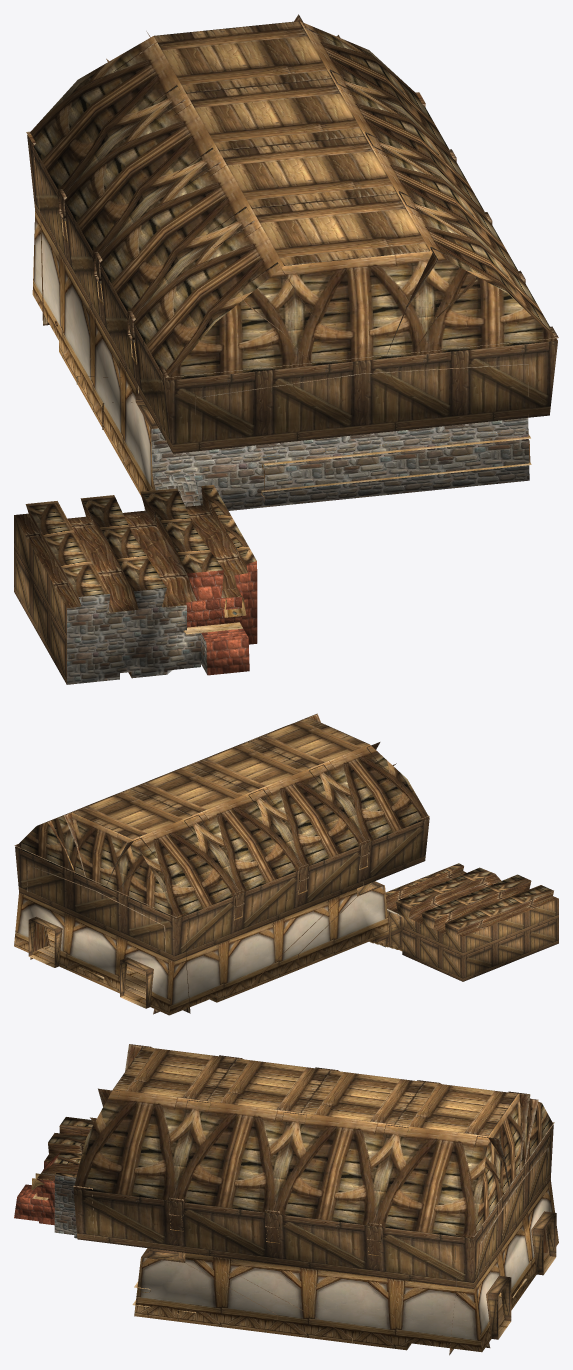
The model's file is stormwind_097.fbx.
3 views of the same model, one above another, from view 1: azimuth 30°, elevation 25°; view 2: azimuth 150°, elevation 25°; view 3: azimuth 270°, elevation 25° (orthographic). The views are drawn at different scales.
Visible parts, largest first — view 1: stormwind_097_49, stormwind_097_56, stormwind_097_55, stormwind_097_38, stormwind_097_53, stormwind_097_48, stormwind_097_91, stormwind_097_54; view 2: stormwind_097_49, stormwind_097_56, stormwind_097_48, stormwind_097_55, stormwind_097_53, stormwind_097_51; view 3: stormwind_097_49, stormwind_097_56, stormwind_097_48, stormwind_097_55, stormwind_097_53, stormwind_097_91, stormwind_097_38, stormwind_097_51, stormwind_097_54.
Part boxes in pixels (x1=…): stormwind_097_49: x1=26, y1=21, x2=557, y2=596; stormwind_097_56: x1=14, y1=136, x2=557, y2=684; stormwind_097_55: x1=154, y1=21, x2=429, y2=265; stormwind_097_38: x1=67, y1=418, x2=529, y2=684; stormwind_097_53: x1=14, y1=14, x2=558, y2=677; stormwind_097_48: x1=32, y1=211, x2=152, y2=496; stormwind_097_91: x1=186, y1=561, x2=257, y2=675; stormwind_097_54: x1=61, y1=218, x2=531, y2=634; stormwind_097_49: x1=15, y1=721, x2=553, y2=928; stormwind_097_56: x1=15, y1=818, x2=558, y2=1008; stormwind_097_48: x1=14, y1=885, x2=401, y2=1015; stormwind_097_55: x1=73, y1=717, x2=369, y2=839; stormwind_097_53: x1=14, y1=713, x2=558, y2=1014; stormwind_097_51: x1=29, y1=931, x2=145, y2=1008; stormwind_097_49: x1=48, y1=1089, x2=552, y2=1238; stormwind_097_56: x1=73, y1=1125, x2=556, y2=1339; stormwind_097_48: x1=134, y1=1179, x2=558, y2=1352; stormwind_097_55: x1=113, y1=1047, x2=517, y2=1136; stormwind_097_53: x1=37, y1=1044, x2=554, y2=1355; stormwind_097_91: x1=14, y1=1152, x2=60, y2=1225; stormwind_097_38: x1=54, y1=1175, x2=77, y2=1238; stormwind_097_51: x1=498, y1=1253, x2=555, y2=1339; stormwind_097_54: x1=31, y1=1160, x2=527, y2=1342.
Size of the model in its own units: 48.87 by 22.85 by 51.3.
